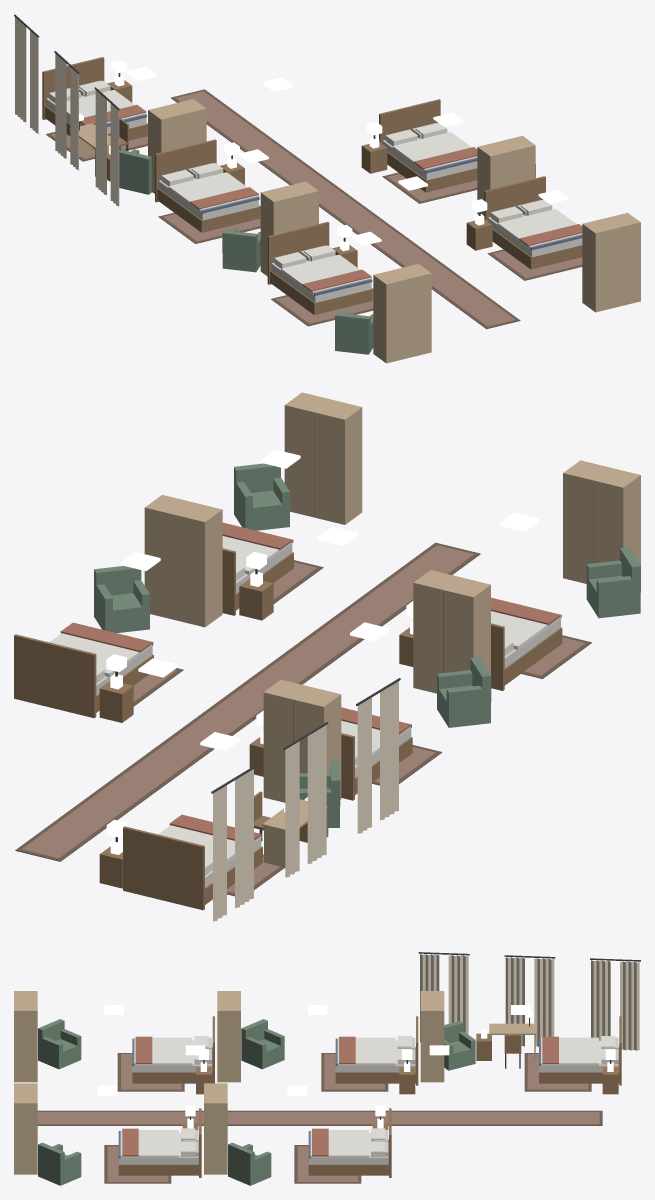
The model's file is fine-s1.glb.
The picture shows the model from 3 angles, top to bottom: view 1: azimuth 30°, elevation 25°; view 2: azimuth 150°, elevation 25°; view 3: azimuth 270°, elevation 25°; orthographic projection. The views are drawn at different scales.
Visible parts, largest first — view 1: soft-s1, dresser.001, dresser.004, bed-frame.004, bed-frame.003, bed-frame.001, bed-frame.000, dresser.003, dresser.002, dresser.000, bed-frame.002, lounge-chair.003 (+5 smaller); view 2: soft-s1, dresser.001, dresser.000, dresser.003, dresser.004, bed-frame.000, dresser.002, bed-frame.002, lounge-chair.000, lounge-chair.001, lounge-chair.004, lounge-chair.003 (+8 smaller); view 3: soft-s1, dresser.000, dresser.001, dresser.003, dresser.004, dresser.002, bed-frame.000, bed-frame.001, lounge-chair.004, lounge-chair.003, bed-frame.003, bed-frame.002 (+10 smaller).
Part boxes in pixels (bbox=[...]): soft-s1: bbox=[14, 14, 582, 329]; dresser.001: bbox=[582, 212, 640, 312]; dresser.004: bbox=[373, 264, 431, 363]; bed-frame.004: bbox=[267, 222, 372, 314]; bed-frame.003: bbox=[155, 139, 260, 232]; bed-frame.001: bbox=[484, 176, 582, 269]; bed-frame.000: bbox=[379, 99, 477, 192]; dresser.003: bbox=[260, 181, 318, 276]; dresser.002: bbox=[148, 99, 206, 193]; dresser.000: bbox=[477, 136, 535, 215]; bed-frame.002: bbox=[42, 57, 147, 149]; lounge-chair.003: bbox=[222, 228, 260, 272]; soft-s1: bbox=[15, 522, 591, 921]; dresser.001: bbox=[284, 392, 362, 524]; dresser.000: bbox=[144, 495, 222, 627]; dresser.003: bbox=[413, 570, 490, 693]; dresser.004: bbox=[563, 460, 640, 583]; bed-frame.000: bbox=[14, 634, 153, 718]; dresser.002: bbox=[263, 679, 341, 802]; bed-frame.002: bbox=[123, 826, 262, 910]; lounge-chair.000: bbox=[94, 566, 149, 632]; lounge-chair.001: bbox=[234, 463, 289, 530]; lounge-chair.004: bbox=[586, 547, 640, 618]; lounge-chair.003: bbox=[437, 657, 491, 727]; soft-s1: bbox=[37, 952, 640, 1183]; dresser.000: bbox=[204, 1083, 227, 1174]; dresser.001: bbox=[14, 1083, 37, 1174]; dresser.003: bbox=[217, 991, 240, 1082]; dresser.004: bbox=[14, 991, 37, 1082]; dresser.002: bbox=[420, 991, 444, 1082]; bed-frame.000: bbox=[308, 1108, 391, 1177]; bed-frame.001: bbox=[118, 1108, 201, 1177]; lounge-chair.004: bbox=[38, 1019, 81, 1069]; lounge-chair.003: bbox=[241, 1019, 284, 1069]; bed-frame.003: bbox=[335, 1016, 418, 1085]; bed-frame.002: bbox=[539, 1016, 621, 1085].
Bounding box in the file's own units: 8.57 × 2.56 × 15.91.
